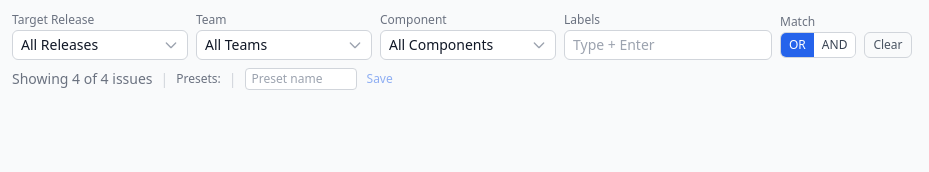
PriorityFilterBar › labels input › adds a label chip when Enter is pressed
In the field with test id "filter-labels-input": (668, 45) [573, 35, 763, 55], type "3.4-committed"
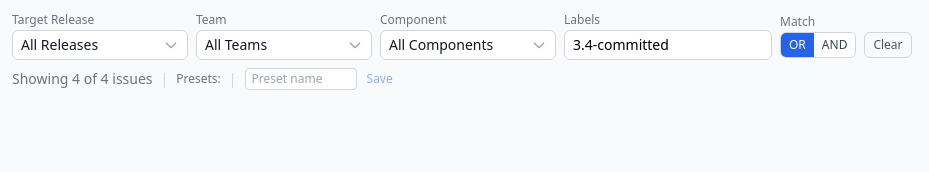
Press Enter in the field with test id "filter-labels-input", box [573, 35, 763, 55]
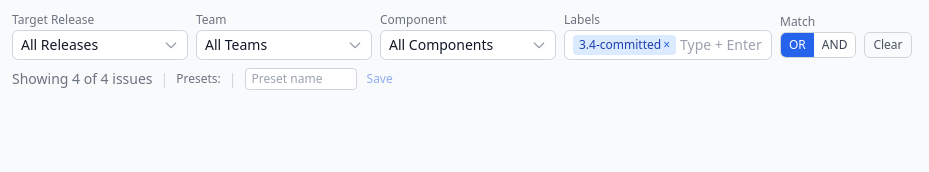
Now the element with test id "label-chip-3.4-committed" is shown, box [573, 35, 676, 55]
